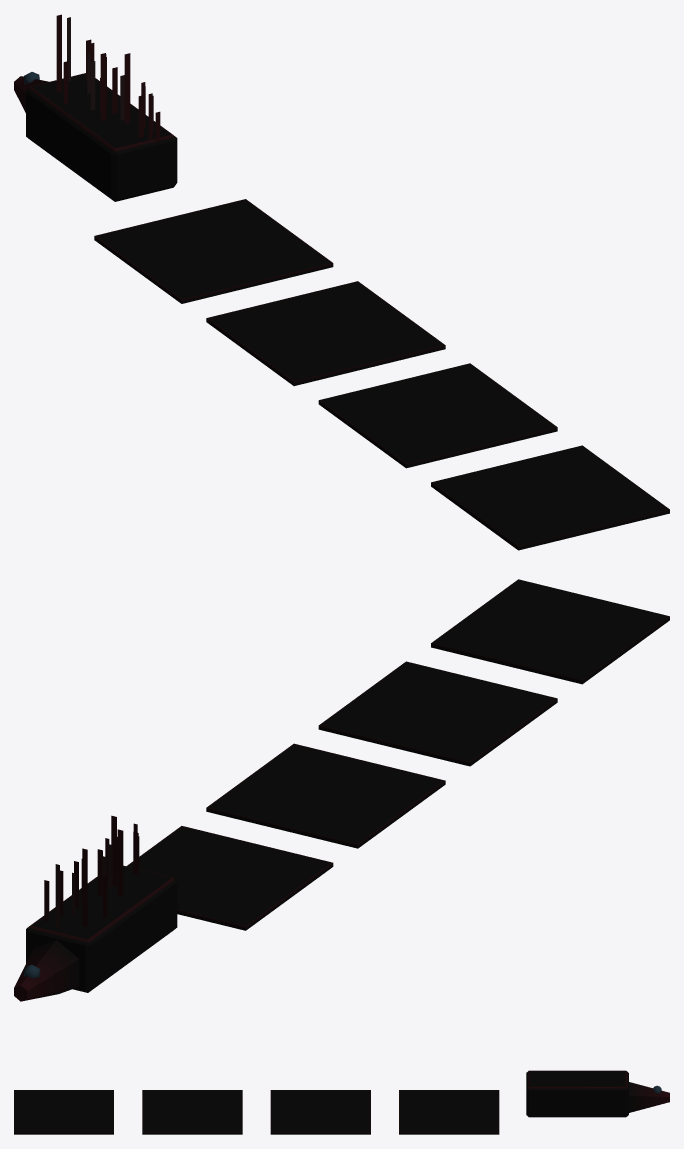
File: tracer_ice.glb
3 views of the same model, one above another, from view 1: azimuth 30°, elevation 25°; view 2: azimuth 150°, elevation 25°; view 3: azimuth 270°, elevation 25° (orthographic). The views are drawn at different scales.
Parts seen in each view (by area): view 1: tracer_ice_tail_1, tracer_ice_tail_2, tracer_ice_tail_3, tracer_ice_tail_4, tracer_ice_body, tracer_ice_spine; view 2: tracer_ice_tail_3, tracer_ice_tail_2, tracer_ice_tail_4, tracer_ice_body, tracer_ice_tail_1, tracer_ice_spine; view 3: tracer_ice_body, tracer_ice_tail_1, tracer_ice_tail_2, tracer_ice_tail_3, tracer_ice_tail_4.
Part boxes in pixels (x1,y1,x2,y2): tracer_ice_tail_1: [94, 199, 333, 303]; tracer_ice_tail_2: [206, 281, 445, 385]; tracer_ice_tail_3: [318, 363, 557, 468]; tracer_ice_tail_4: [431, 445, 669, 550]; tracer_ice_body: [14, 73, 177, 201]; tracer_ice_spine: [56, 14, 160, 142]; tracer_ice_tail_3: [318, 661, 557, 766]; tracer_ice_tail_2: [206, 743, 445, 848]; tracer_ice_tail_4: [431, 579, 669, 684]; tracer_ice_body: [14, 865, 177, 1001]; tracer_ice_tail_1: [126, 826, 333, 930]; tracer_ice_spine: [44, 815, 139, 928]; tracer_ice_body: [526, 1070, 669, 1117]; tracer_ice_tail_1: [399, 1090, 499, 1134]; tracer_ice_tail_2: [270, 1090, 370, 1134]; tracer_ice_tail_3: [142, 1090, 242, 1134]; tracer_ice_tail_4: [14, 1090, 113, 1134].
Size of the model in its own units: 0.78 by 0.6803 by 5.11.
